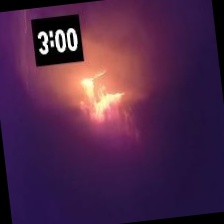fire: (67, 71, 123, 127)
